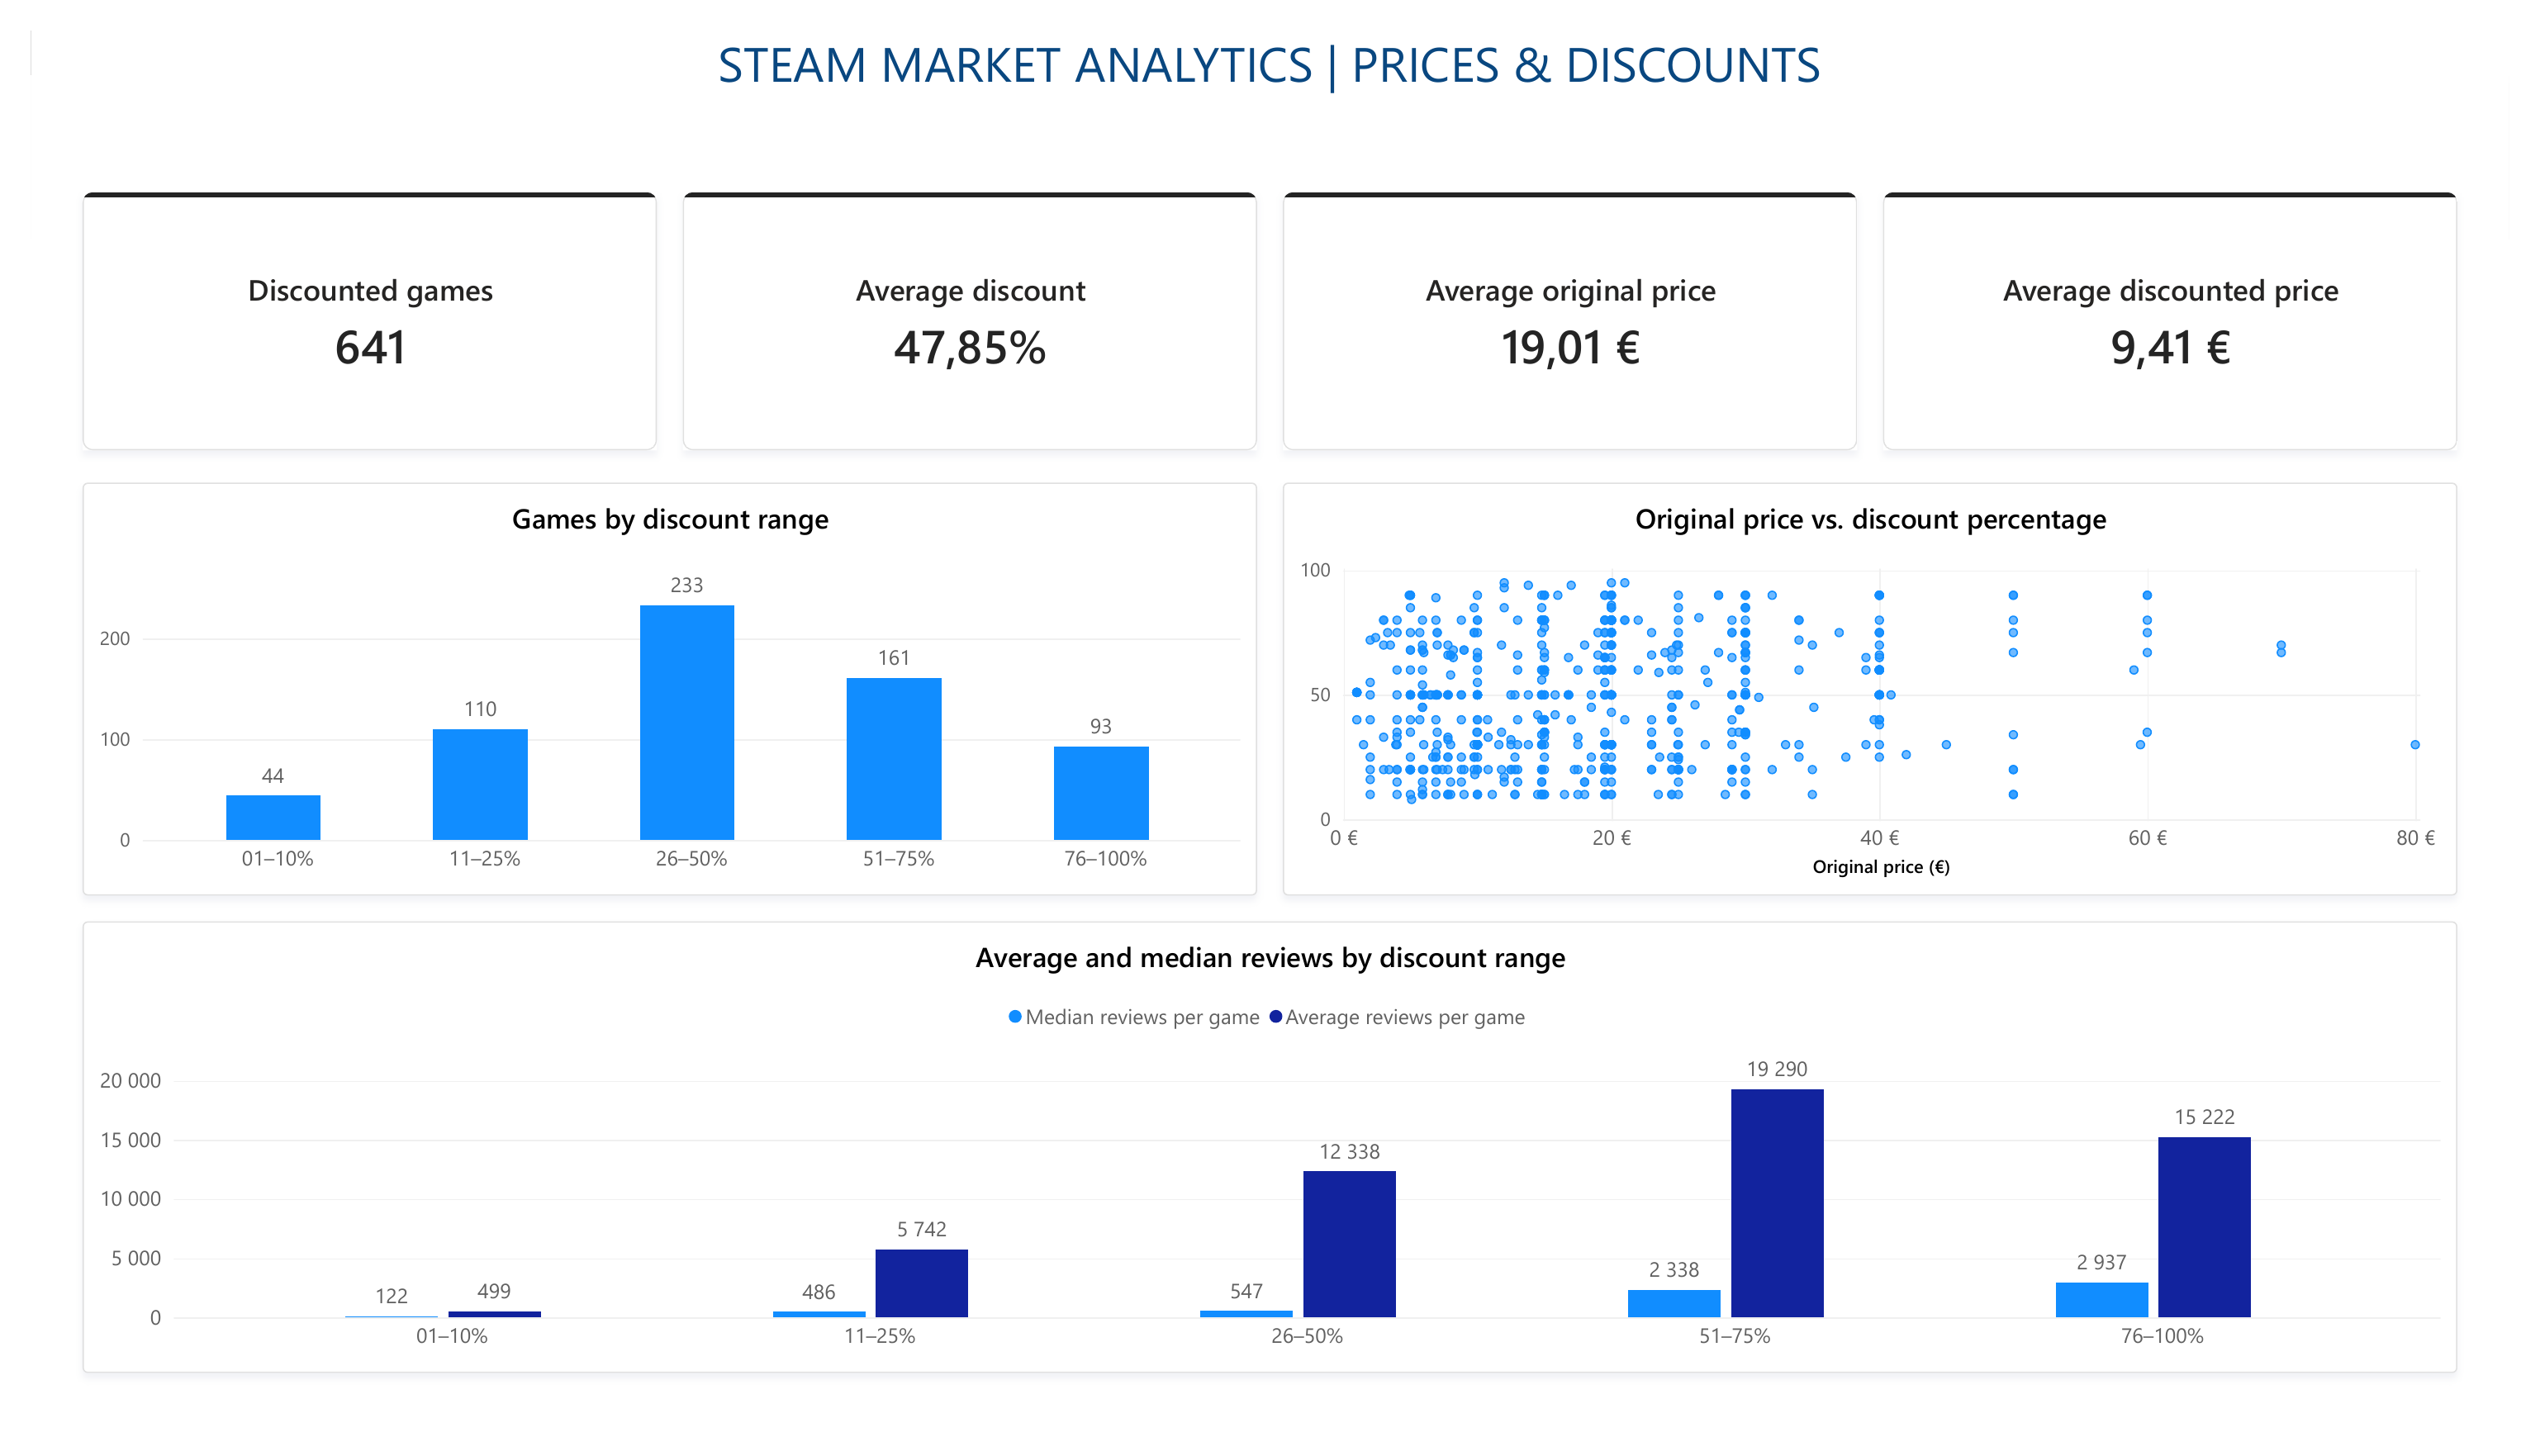

What the dashboard file says about the page in this screenshot:
{"tool":"powerbi","page":{"name":"Prices & discounts","canvas":[1920,1080],"ordinal":1},"visuals":[{"type":"cardVisual","fields":{"Data":["analytics steam_items.Gry z przecenami"]},"box":[40,125,445,200],"z":0},{"type":"cardVisual","fields":{"Data":["analytics steam_items.Średni rabat %"]},"box":[505,125,445,200],"z":1000},{"type":"cardVisual","fields":{"Data":["analytics steam_items.Średnia cena po rabacie EUR"]},"box":[1435,125,445,200],"z":2000},{"type":"cardVisual","fields":{"Data":["analytics steam_items.Średnia cena przed rabatem EUR"]},"box":[970,125,445,200],"z":3000},{"type":"clusteredColumnChart","title":"\tGames by discount range","fields":{"Category":["analytics steam_items.Przedział rabatu"],"Y":["analytics steam_items.Liczba gier"]},"box":[40,350,910,320],"z":4000},{"type":"clusteredColumnChart","title":"\tAverage and median reviews by discount range","fields":{"Category":["analytics steam_items.Przedział rabatu"],"Y":["analytics steam_items.Mediana recenzji na grę","analytics steam_items.Średnia liczba recenzji na grę"]},"box":[40,690,1840,350],"z":5000},{"type":"textbox","title":"Tytuł","box":[40,0,1840,103.8],"z":5500},{"type":"scatterChart","title":"\tOriginal price vs. discount percentage","fields":{"Category":["analytics steam_items.item_id"],"X":["Avg(analytics steam_items.original_price_eur)"],"Y":["Avg(analytics steam_items.discount_percent)"]},"box":[970,350,910,320],"z":6000}]}

Visuals, with their boxes on the page's 1920x1080 design canvas (x1, y1, x2, y2). These are canvas units, not pixel positions in the 2540x1456 screenshot, which may show the page scaled, cropped or inside an application window:
cardVisual - analytics steam_items.Gry z przecenami: [left=40, top=125, right=485, bottom=325]
cardVisual - analytics steam_items.Średni rabat %: [left=505, top=125, right=950, bottom=325]
cardVisual - analytics steam_items.Średnia cena po rabacie EUR: [left=1435, top=125, right=1880, bottom=325]
cardVisual - analytics steam_items.Średnia cena przed rabatem EUR: [left=970, top=125, right=1415, bottom=325]
"	Games by discount range" clusteredColumnChart: [left=40, top=350, right=950, bottom=670]
"	Average and median reviews by discount range" clusteredColumnChart: [left=40, top=690, right=1880, bottom=1040]
"Tytuł" textbox: [left=40, top=0, right=1880, bottom=104]
"	Original price vs. discount percentage" scatterChart: [left=970, top=350, right=1880, bottom=670]
